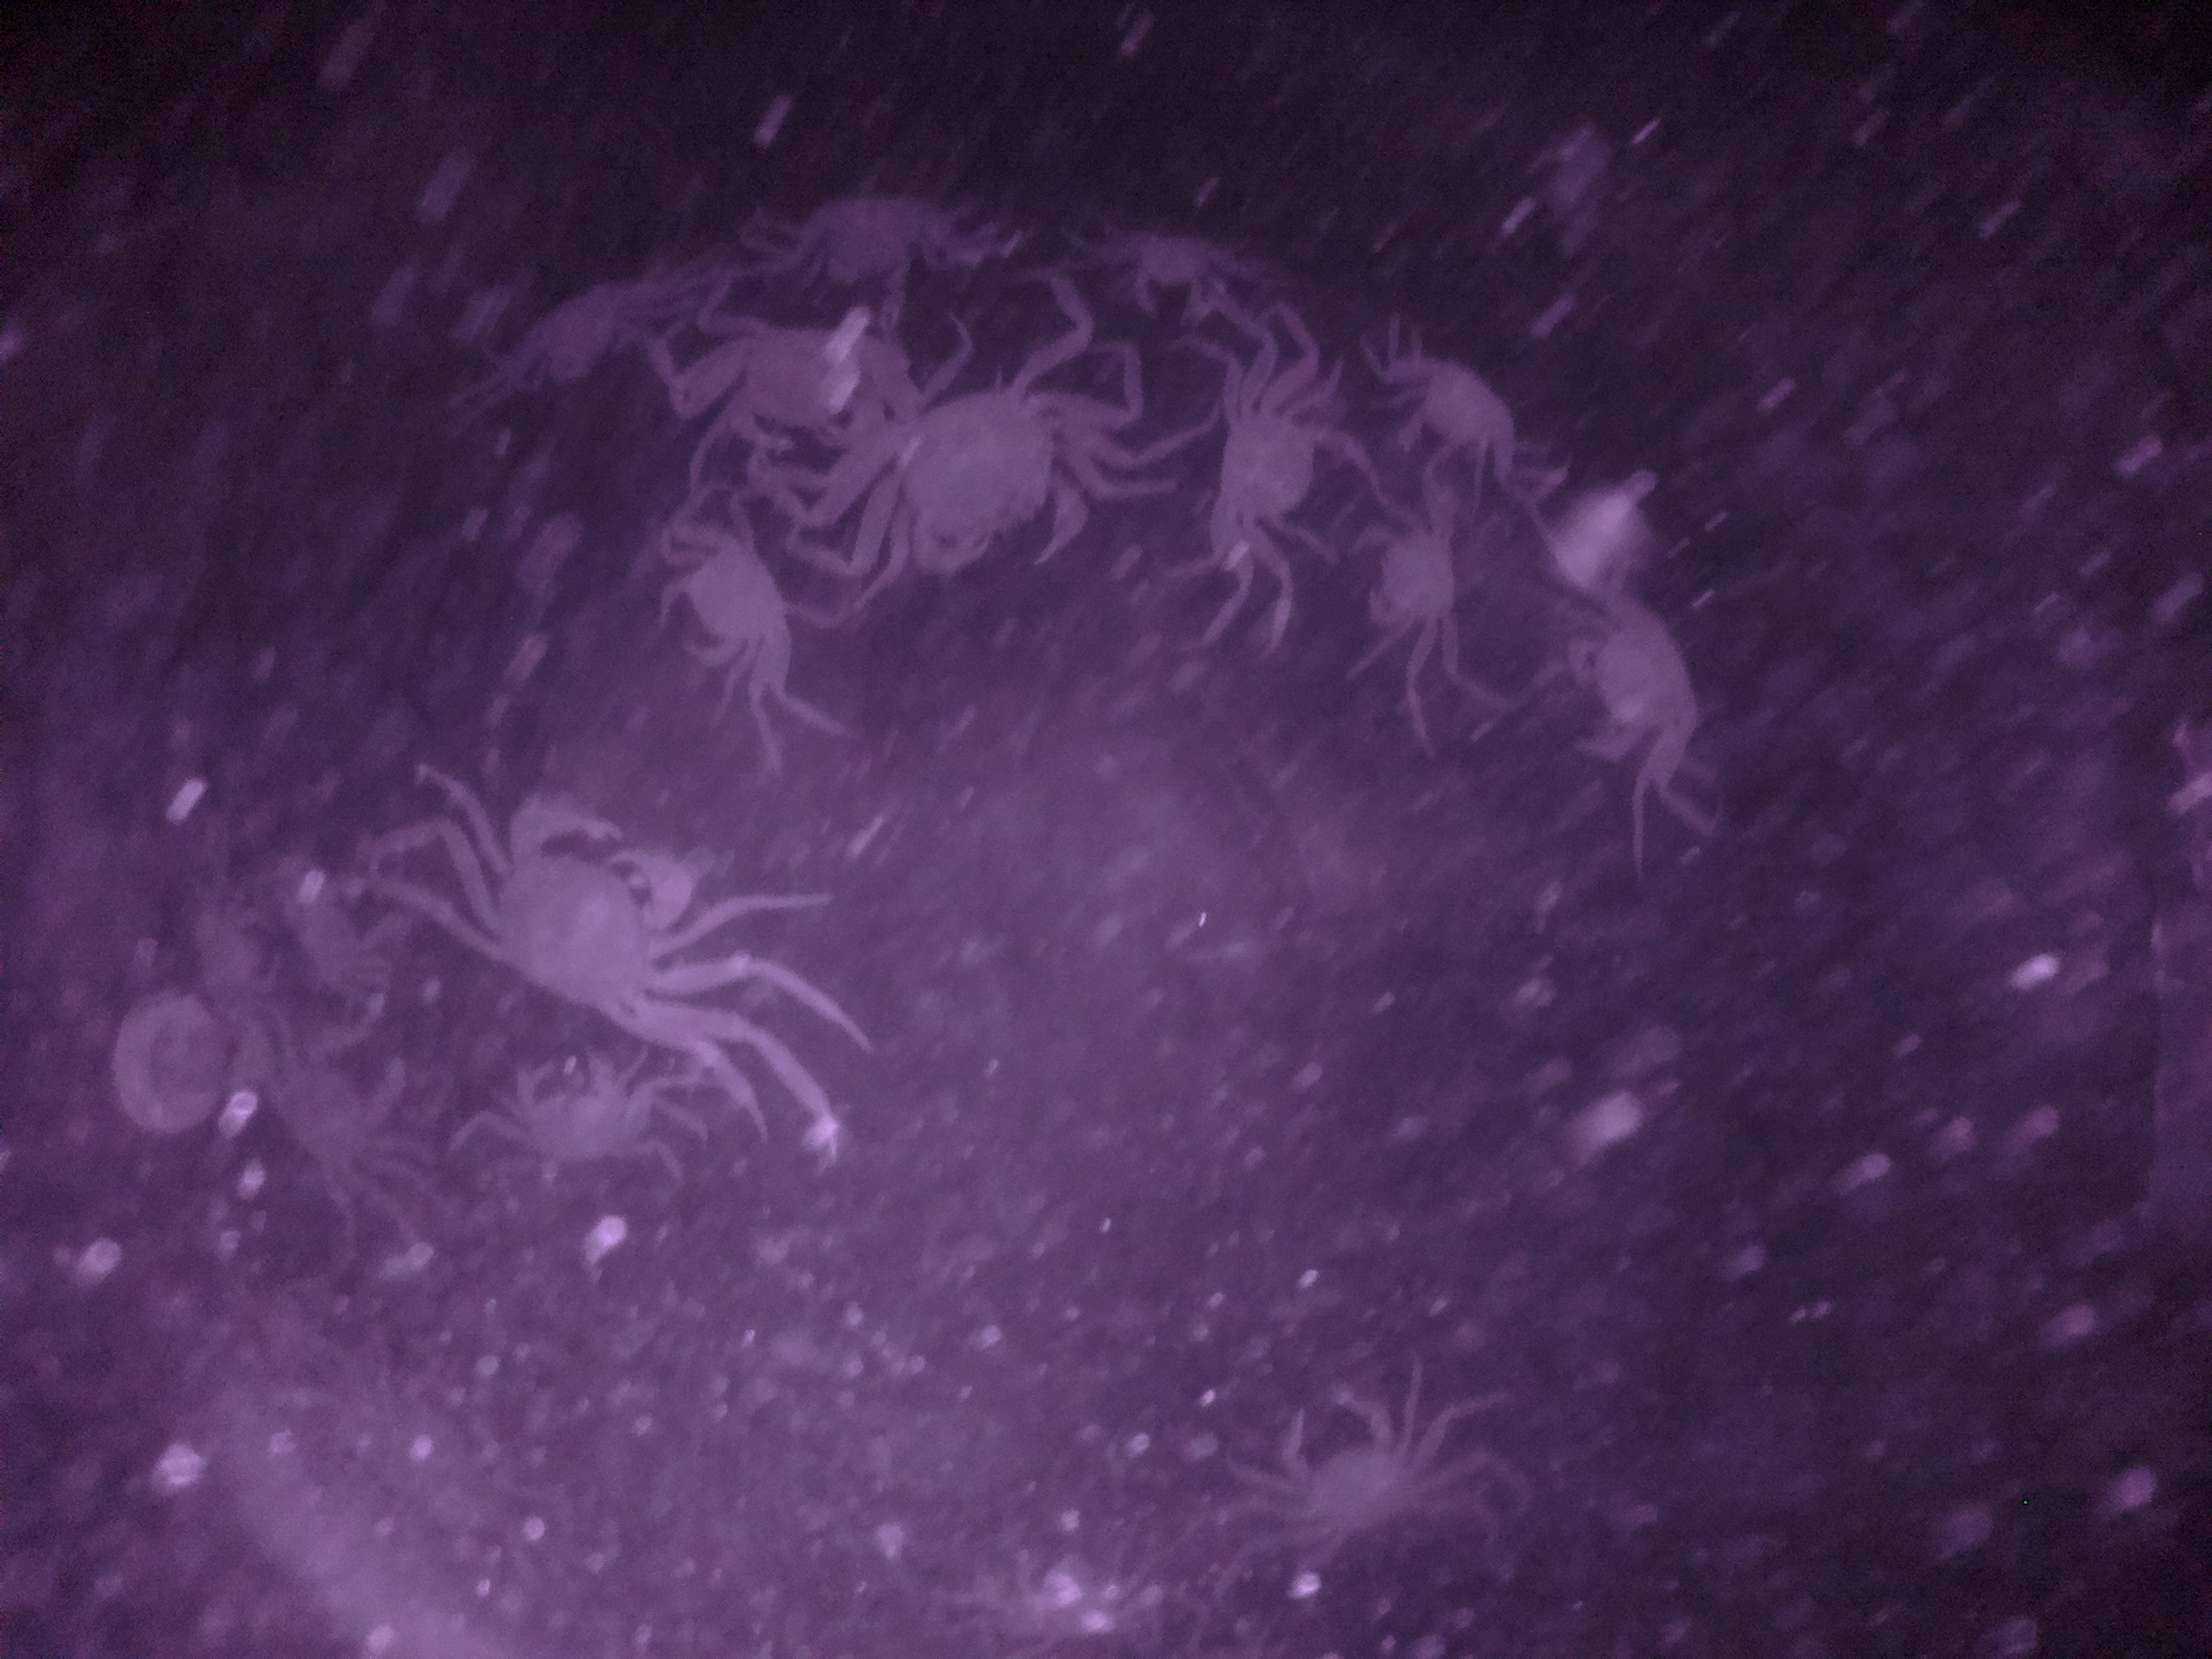Crab: (463, 770, 695, 1046), (852, 354, 1109, 592), (1555, 570, 1709, 798), (1238, 1373, 1442, 1544), (1204, 375, 1378, 565), (643, 519, 808, 692), (1334, 507, 1484, 660), (1400, 328, 1524, 486)
